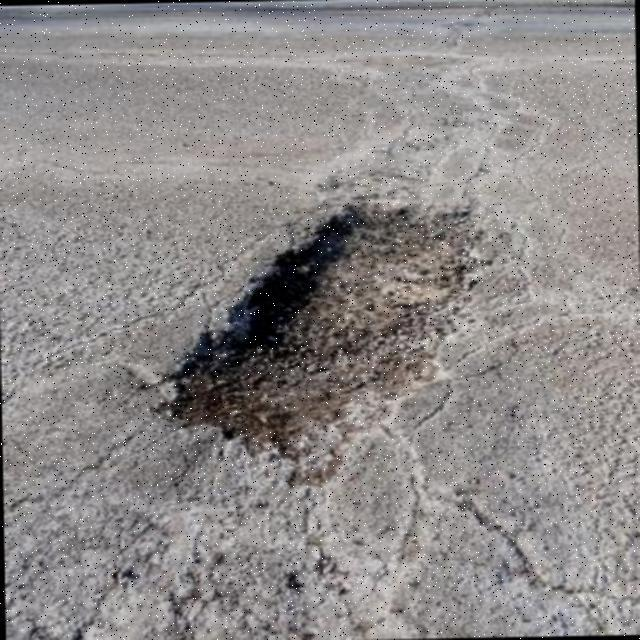Pothole: (155, 196, 525, 488)
